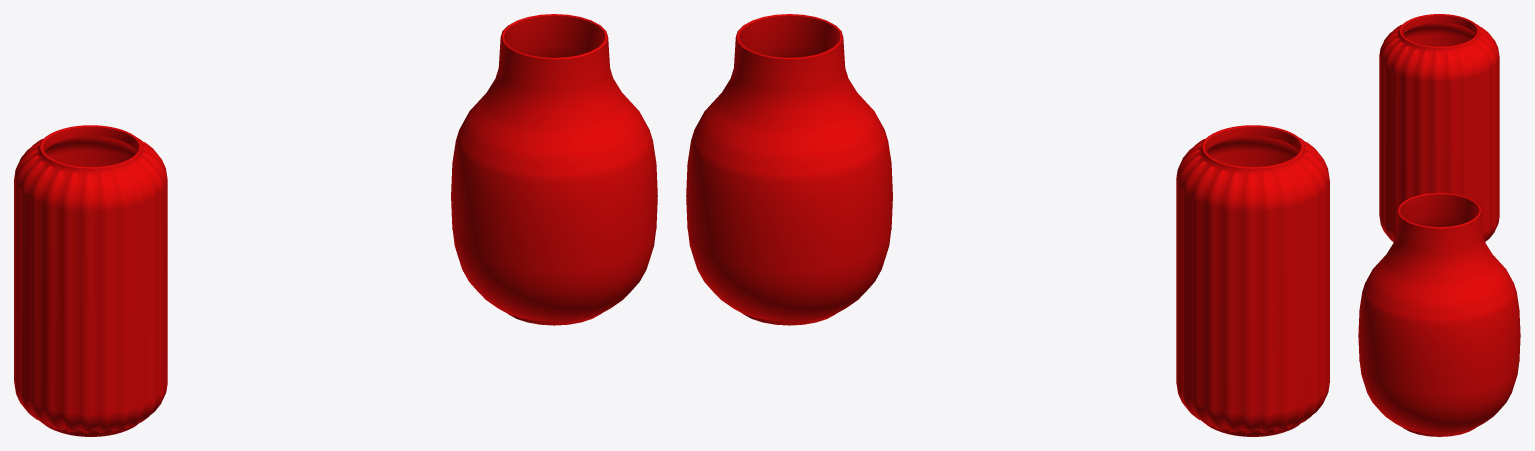
File: thorkea_vases_grp.fbx
3 views of the same model, side by side, from view 1: azimuth 30°, elevation 25°; view 2: azimuth 150°, elevation 25°; view 3: azimuth 270°, elevation 25° (orthographic). The views are drawn at different scales.
Visible parts, largest first — view 1: thorkea_vase_gradvis, thorkea_vase_stilren; view 2: thorkea_vase_gradvis, thorkea_vase_stilren; view 3: thorkea_vase_gradvis, thorkea_vase_stilren.
Boxes of the visible parts, <box> form: thorkea_vase_gradvis: <box>451,14,657,325</box>; thorkea_vase_stilren: <box>14,125,167,436</box>; thorkea_vase_gradvis: <box>686,14,892,325</box>; thorkea_vase_stilren: <box>1176,125,1329,436</box>; thorkea_vase_gradvis: <box>1358,192,1520,436</box>; thorkea_vase_stilren: <box>1379,14,1499,241</box>.
Size of the model in its own units: 53.47 by 22.23 by 15.46.
